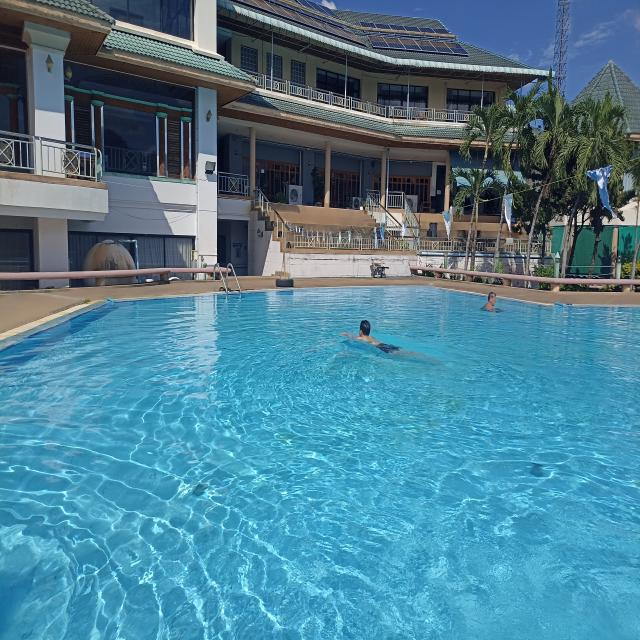Swimming: (341, 306, 440, 382), (471, 282, 512, 328)
